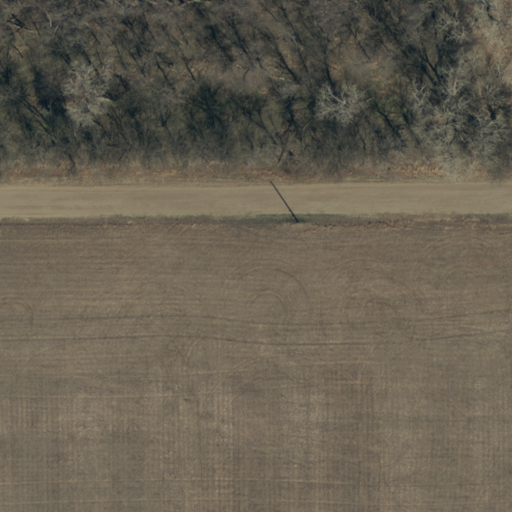DT: (280, 209, 316, 237)
